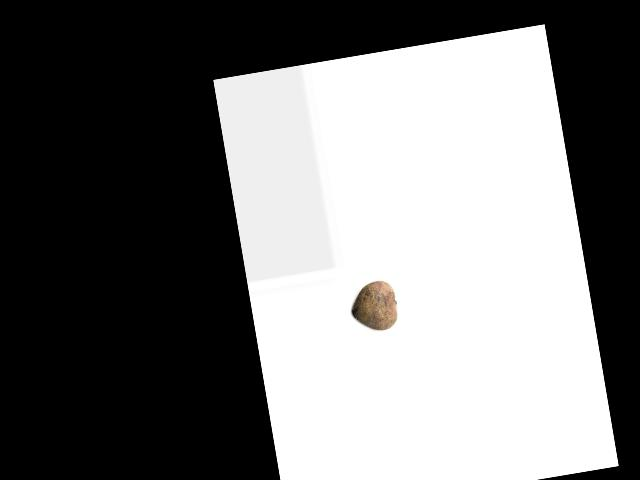beet: (347, 278, 400, 334)
